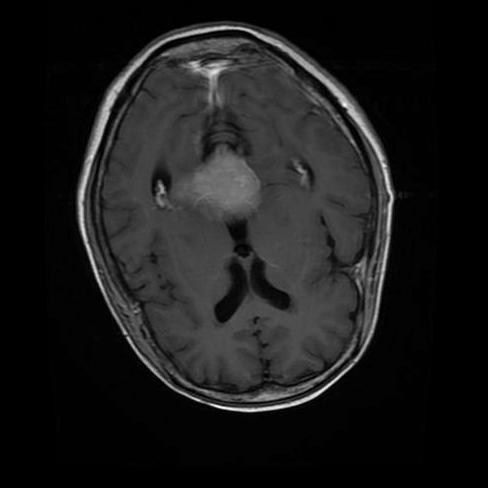Tumour-Meningioma: (162, 119, 270, 239)
